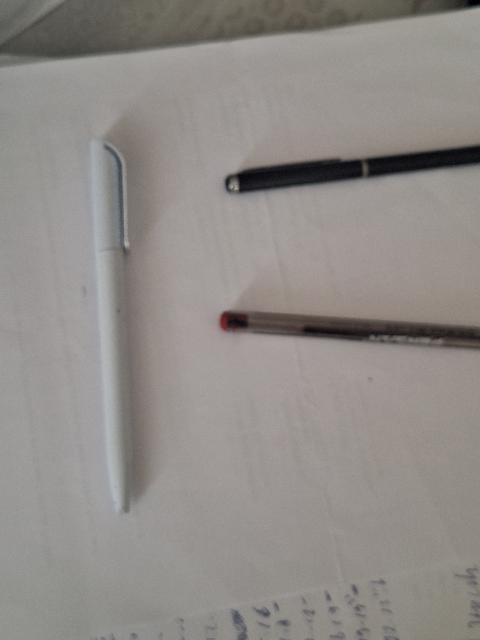writing_tool: (83, 136, 146, 521), (222, 143, 476, 199), (220, 309, 480, 352)
